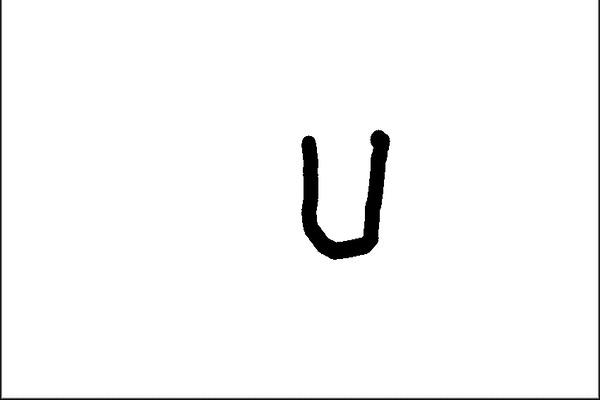U: (292, 119, 398, 265)
